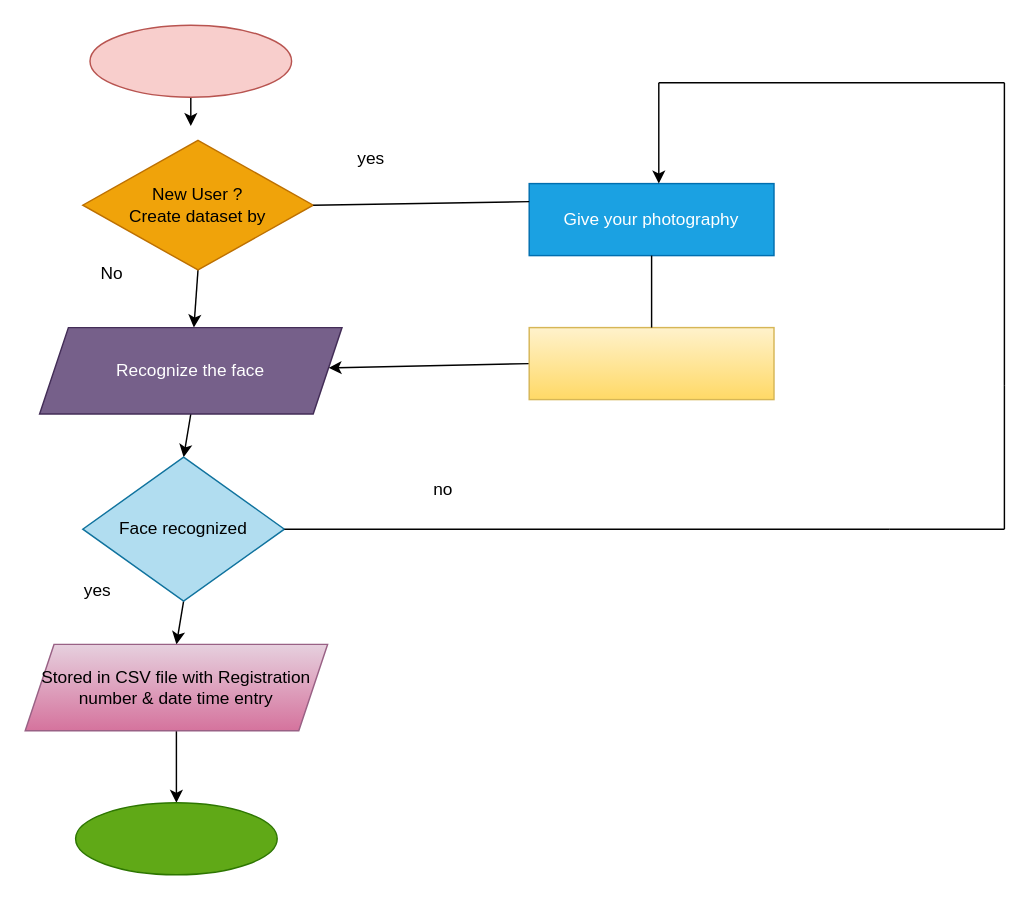
Some shapes in this 1031 by 900 pixel diagram are drawn without their labels. Each missing label, with the centre of its shape:
"End" goes at point (175, 838).
"Start" goes at point (190, 60).
"Stored the face data in folder on your name" goes at point (651, 363).
